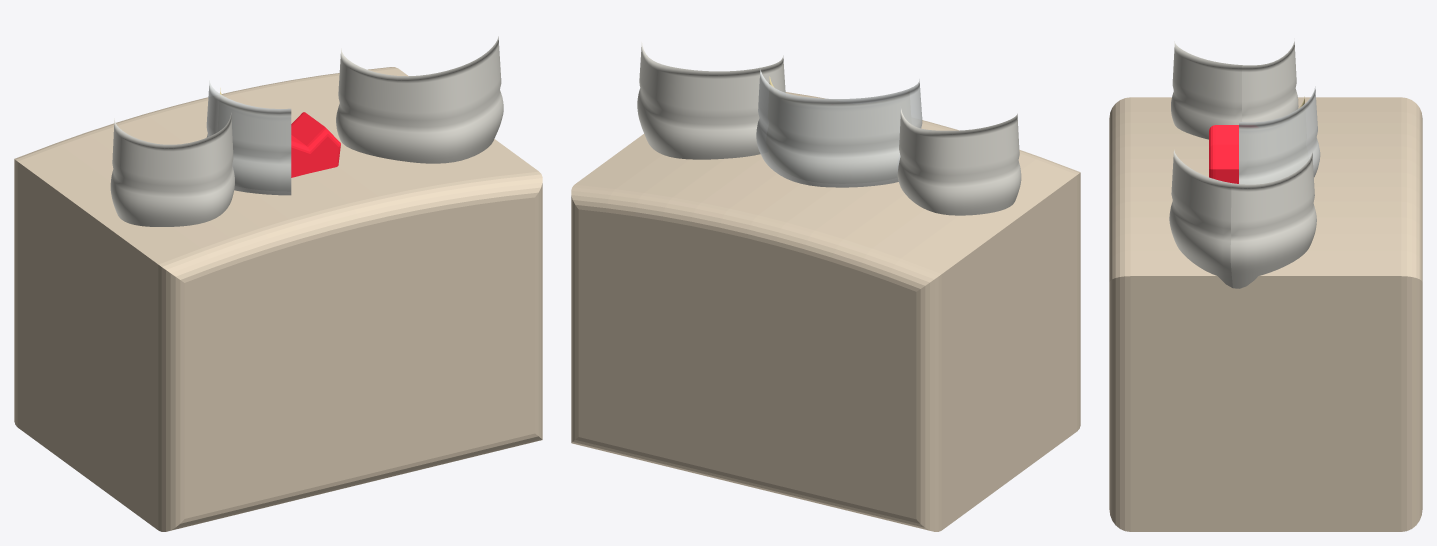
The model's file is molar-endodontic-anatomy.glb.
3 renders of one model, left to right at view 1: azimuth 30°, elevation 25°; view 2: azimuth 150°, elevation 25°; view 3: azimuth 270°, elevation 25°, orthographic. The views are drawn at different scales.
Visible parts, largest first — view 1: Mesh_Alveolar_Housing, Mesh_Adjacent_Second_Molar, Mesh_Adjacent_Premolar, Mesh_Enamel_Outer, Mesh_Pulp_Chamber; view 2: Mesh_Alveolar_Housing, Mesh_Enamel_Outer, Mesh_Adjacent_Second_Molar, Mesh_Adjacent_Premolar; view 3: Mesh_Alveolar_Housing, Mesh_Adjacent_Second_Molar, Mesh_Adjacent_Premolar, Mesh_Enamel_Outer, Mesh_Pulp_Chamber.
Part boxes in pixels (x1,y1,x2,y2): Mesh_Alveolar_Housing: (14, 67, 542, 531); Mesh_Adjacent_Second_Molar: (336, 36, 503, 163); Mesh_Adjacent_Premolar: (110, 113, 234, 226); Mesh_Enamel_Outer: (206, 80, 291, 195); Mesh_Pulp_Chamber: (291, 112, 340, 177); Mesh_Alveolar_Housing: (571, 92, 1080, 531); Mesh_Enamel_Outer: (756, 66, 922, 187); Mesh_Adjacent_Second_Molar: (637, 42, 785, 159); Mesh_Adjacent_Premolar: (897, 109, 1021, 215); Mesh_Alveolar_Housing: (1109, 97, 1422, 531); Mesh_Adjacent_Second_Molar: (1169, 150, 1316, 288); Mesh_Adjacent_Premolar: (1171, 41, 1298, 139); Mesh_Enamel_Outer: (1239, 86, 1320, 184); Mesh_Pulp_Chamber: (1209, 125, 1238, 183).
Size of the model in its own units: 5.18 by 4.67 by 3.7.
